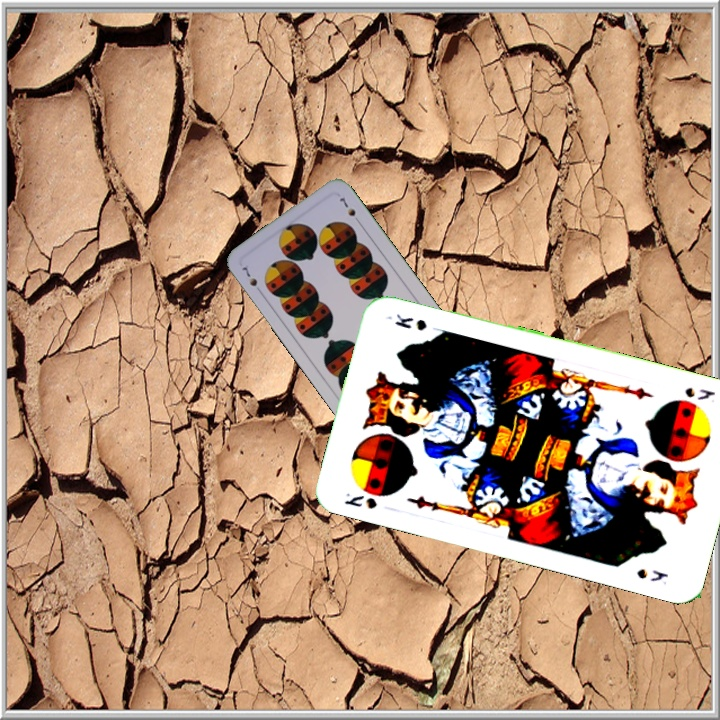S7: (238, 262, 265, 297)
SK: (340, 489, 380, 512), (680, 383, 718, 403)
